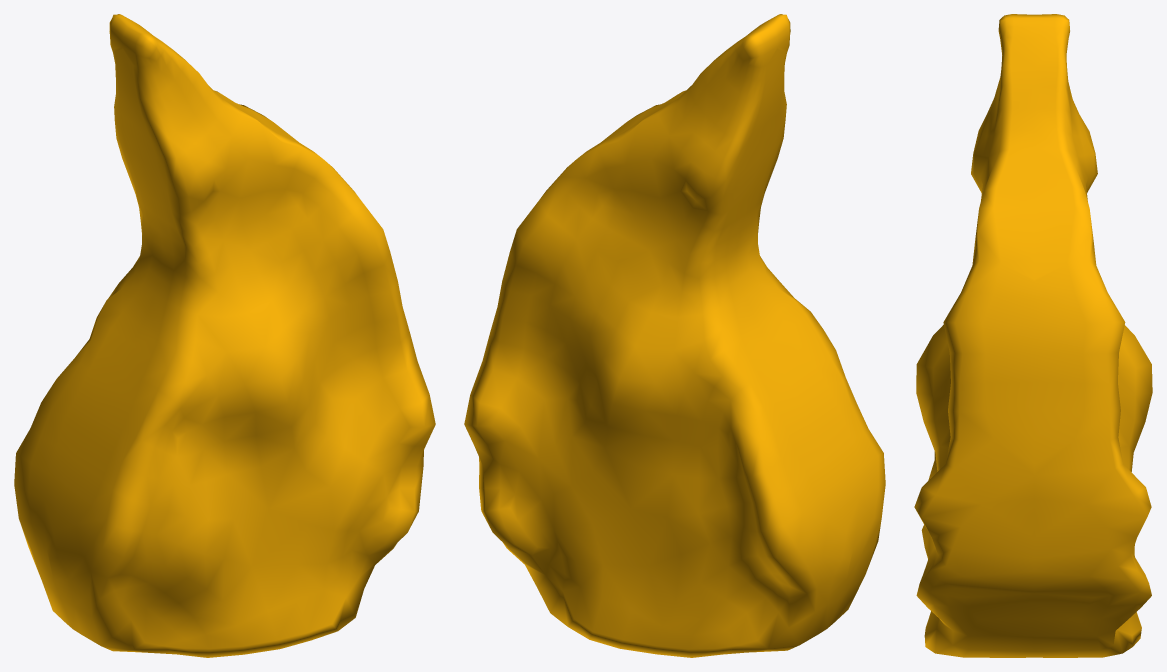
File: fire.fbx
The picture shows the model from 3 angles, left to right: view 1: azimuth 30°, elevation 25°; view 2: azimuth 150°, elevation 25°; view 3: azimuth 270°, elevation 25°; orthographic projection. The views are drawn at different scales.
Parts seen in each view (by area): view 1: polySurface65; view 2: polySurface65; view 3: polySurface65.
Part boxes in pixels (bbox=[...]): polySurface65: bbox=[14, 14, 435, 657]; polySurface65: bbox=[464, 14, 885, 657]; polySurface65: bbox=[914, 14, 1152, 657].
Bounding box in the file's own units: 0.6144 × 1.08 × 0.4036.
